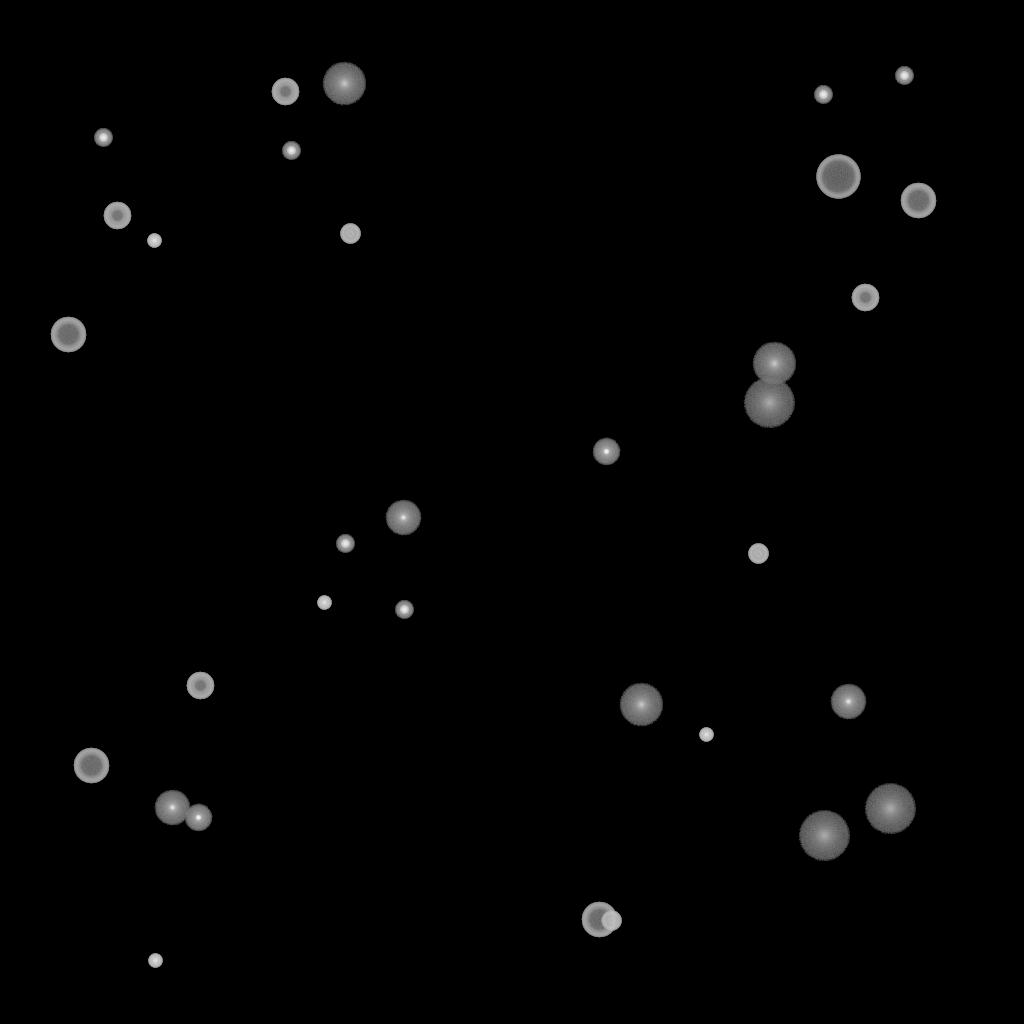depth:-10: (184, 804, 212, 832), (592, 438, 620, 466)
depth:-20: (395, 601, 413, 619), (895, 67, 913, 85), (282, 142, 300, 160), (336, 535, 354, 553), (814, 86, 832, 104), (94, 129, 112, 147)
depth:-30: (148, 954, 162, 968), (147, 234, 161, 248), (699, 728, 713, 742), (317, 596, 331, 610)
depth:-40: (601, 911, 621, 931), (748, 544, 768, 564), (340, 224, 360, 244)
depth:-50: (271, 78, 299, 106), (103, 202, 131, 230), (851, 284, 879, 312), (186, 672, 214, 700)
depth:-60: (581, 902, 617, 938), (900, 183, 936, 219), (73, 748, 109, 784), (50, 317, 86, 353)
depth:-70: (816, 155, 860, 199)
depth:0: (154, 790, 190, 826), (830, 684, 866, 720), (385, 500, 421, 536)
depth:10: (322, 62, 366, 106), (619, 683, 663, 727), (752, 342, 796, 386)
depth:20: (743, 378, 795, 428), (864, 784, 916, 834), (798, 811, 850, 861)
